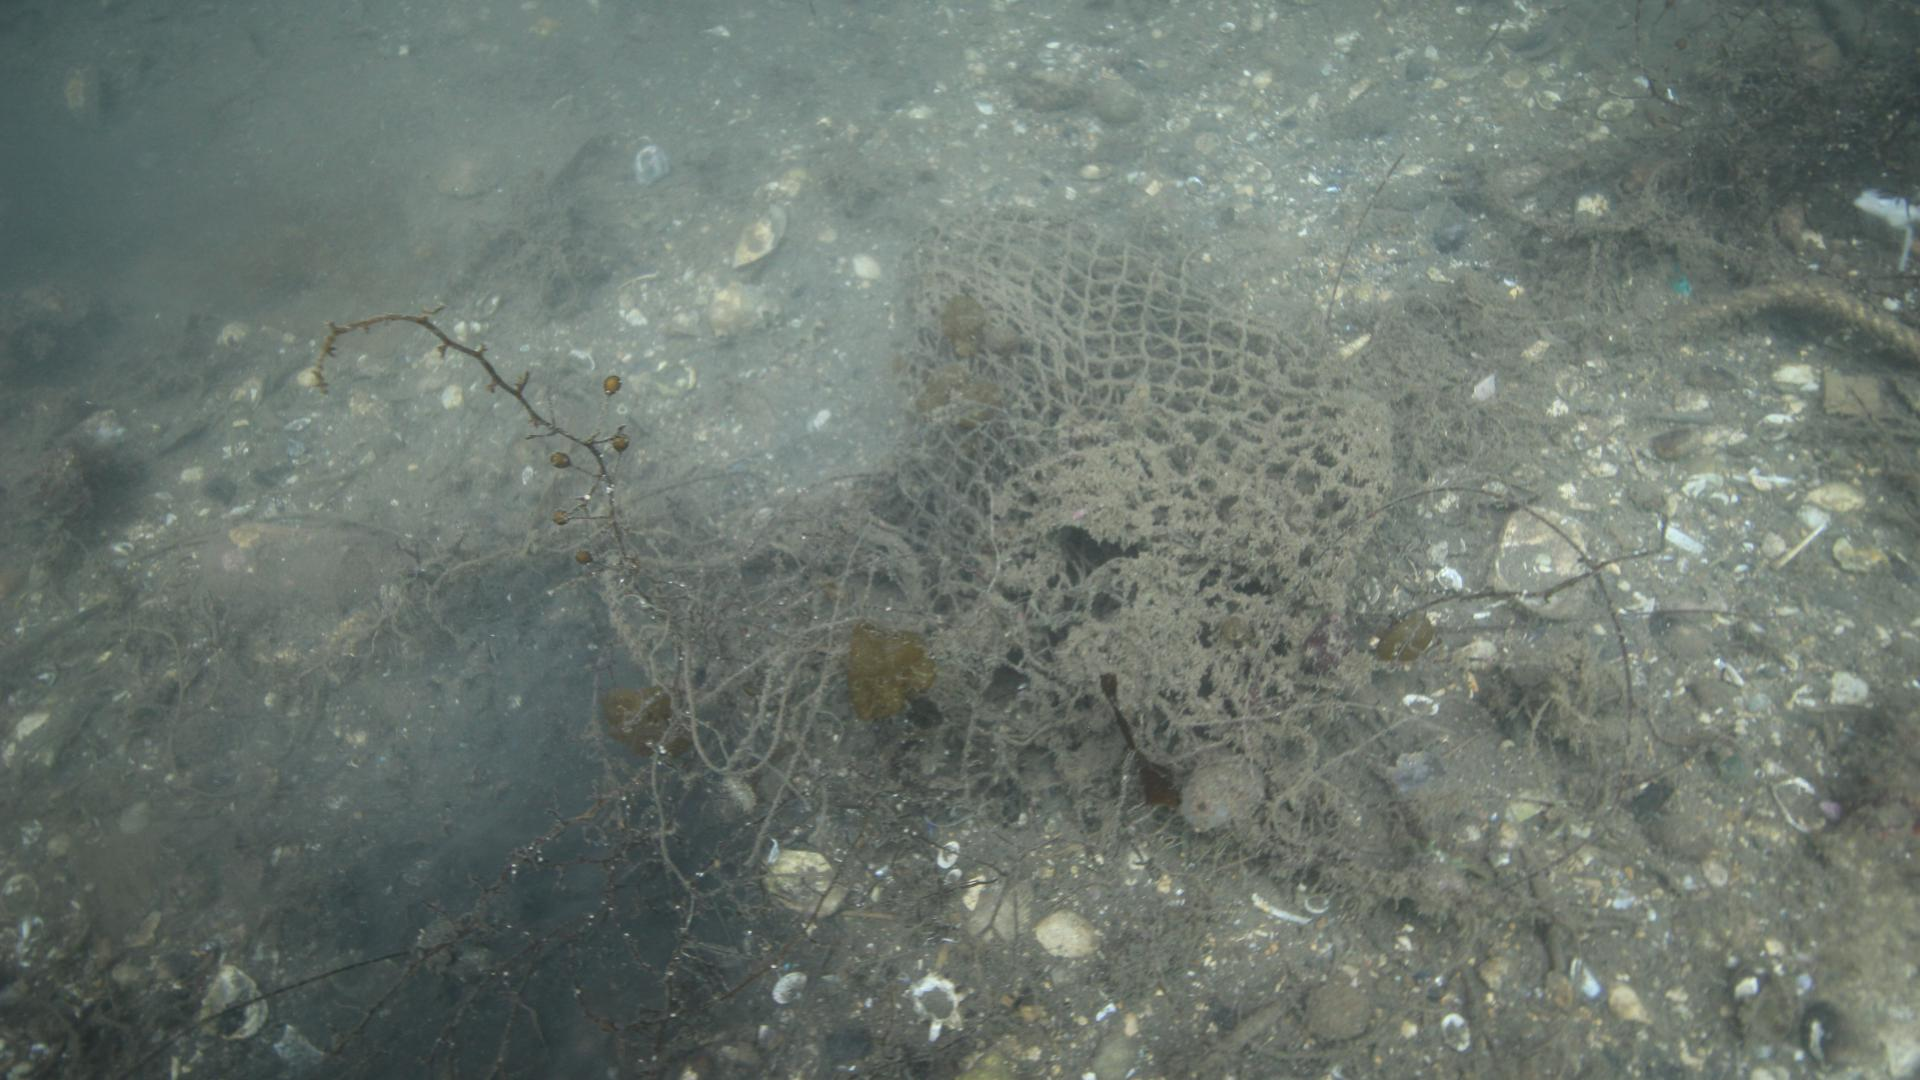fish net: (891, 200, 1395, 708)
